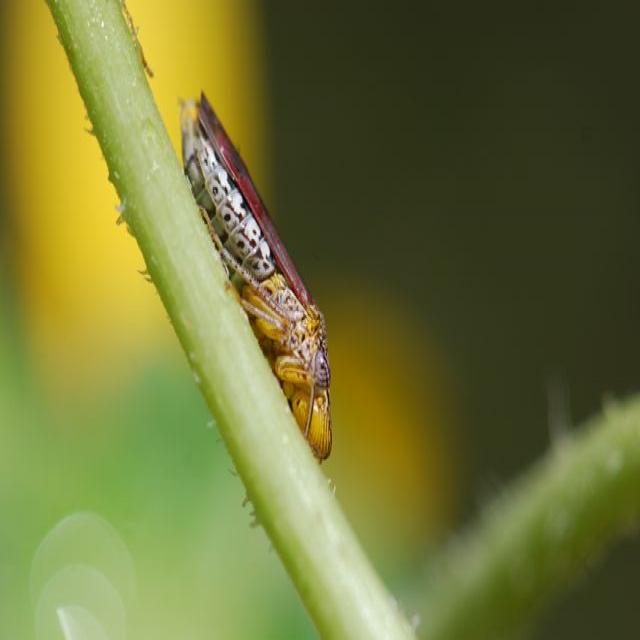Yechan: (162, 84, 351, 473)
